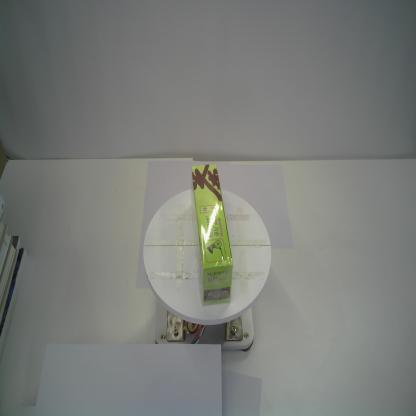Instant Drink: (191, 162, 234, 307)
